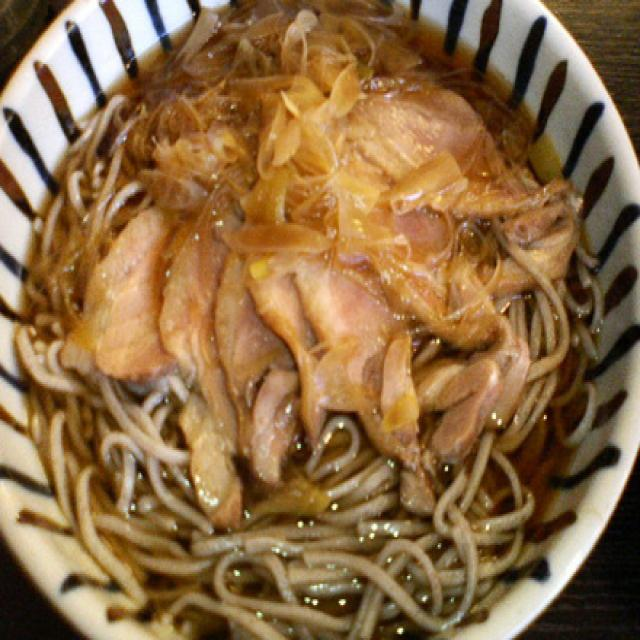面条主食: (42, 4, 594, 620)
